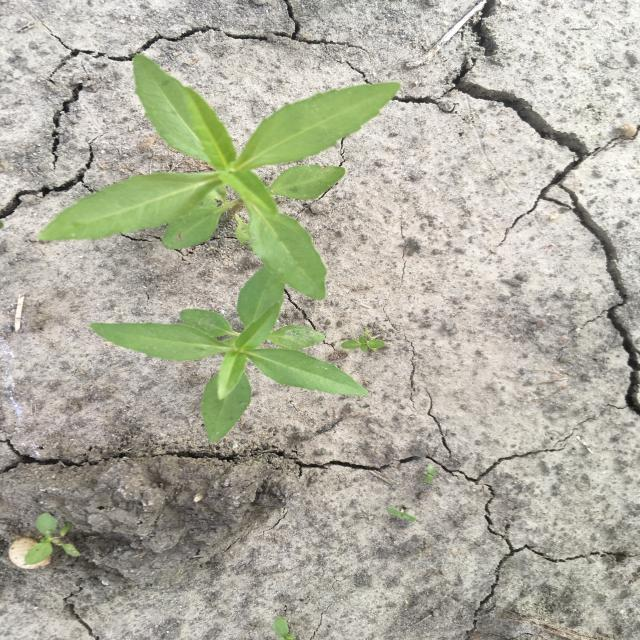Eclipta: (32, 51, 404, 304), (88, 264, 374, 446)
